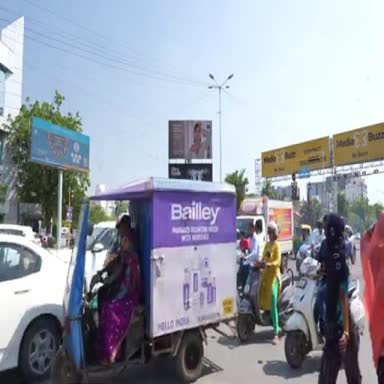Car: (0, 234, 68, 382), (85, 221, 116, 291), (0, 224, 41, 245), (346, 226, 359, 260), (34, 233, 41, 246)
